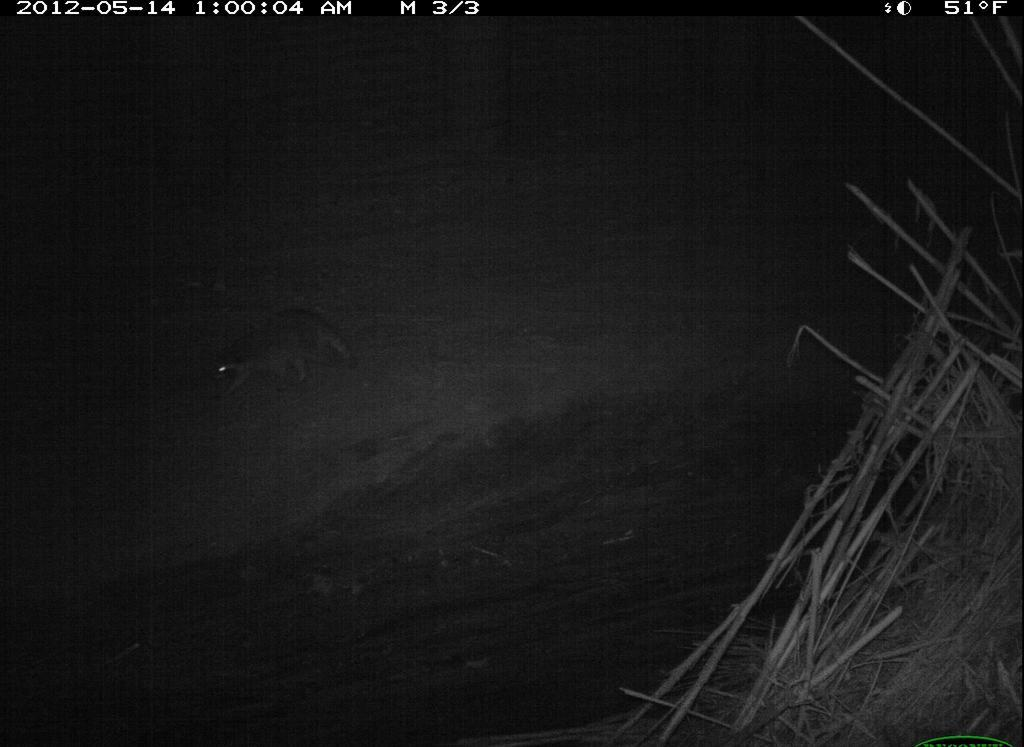raccoon: (201, 296, 364, 404)
